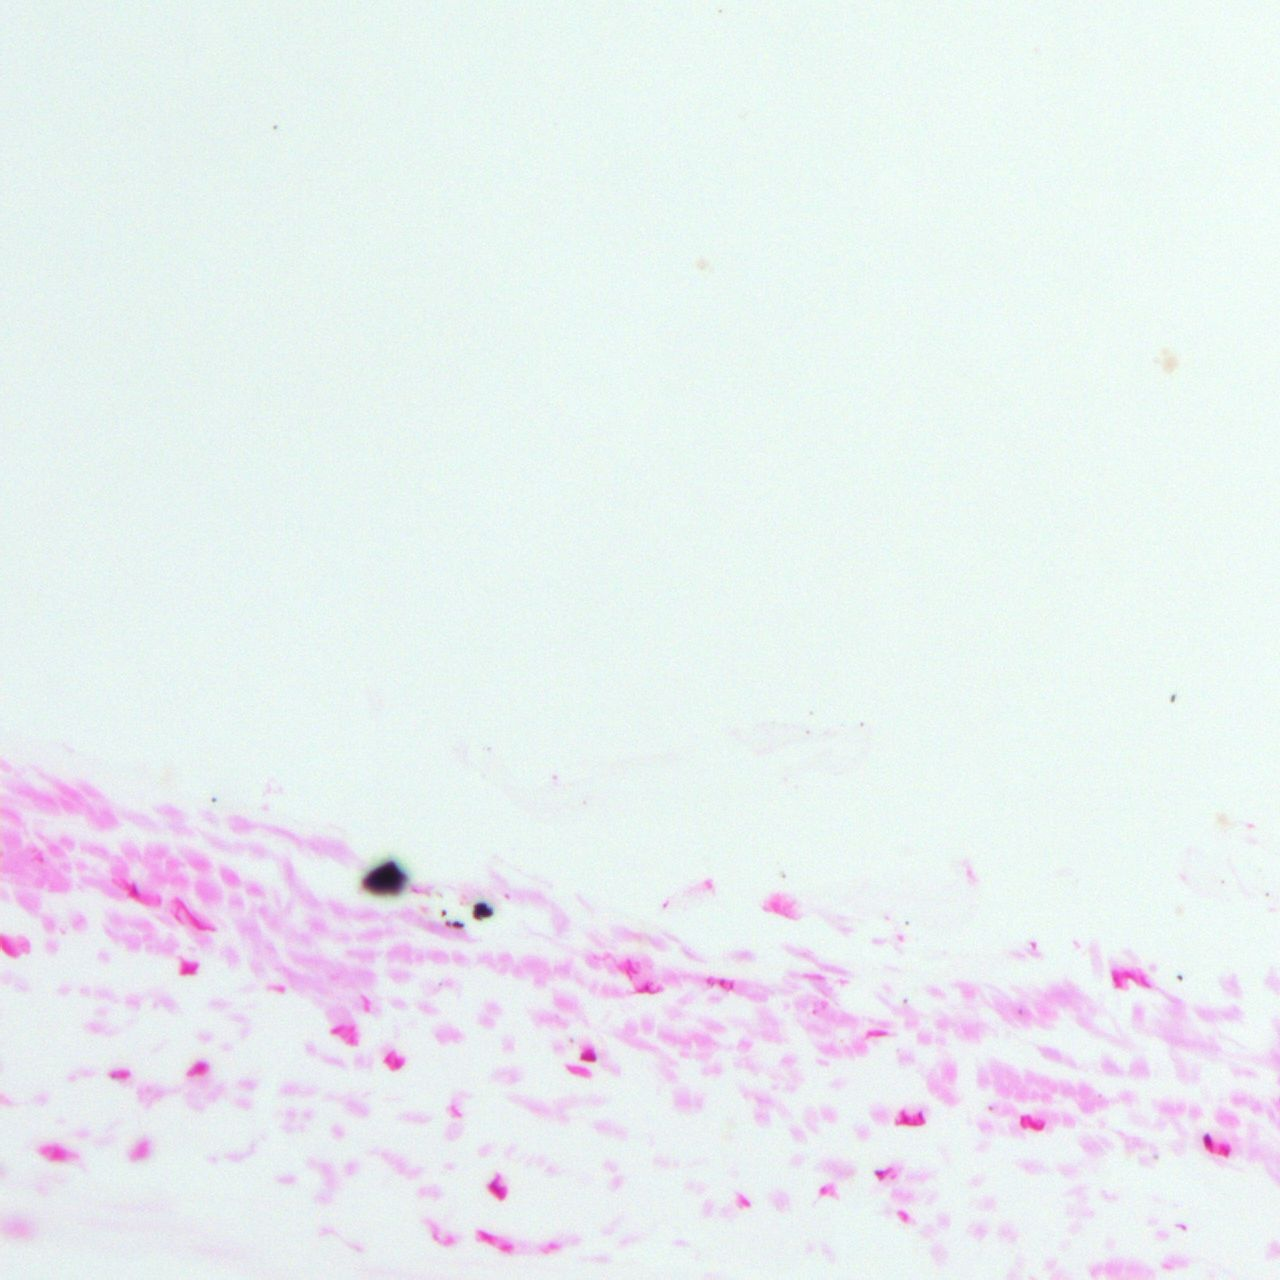dust: (354, 855, 409, 897), (474, 900, 493, 922), (452, 919, 465, 927), (1169, 692, 1176, 703), (1152, 1152, 1160, 1160), (779, 872, 787, 880), (858, 721, 866, 728), (804, 727, 811, 735), (272, 123, 278, 132), (441, 910, 448, 917), (444, 920, 451, 927), (904, 920, 910, 927), (903, 998, 908, 1005), (808, 708, 813, 715), (1176, 974, 1182, 980), (210, 796, 216, 801), (1017, 1008, 1023, 1013), (1264, 891, 1269, 896), (1097, 1092, 1102, 1097), (988, 1105, 992, 1110), (437, 981, 441, 985), (1220, 879, 1224, 883)
nucleus-FG: (171, 893, 216, 938), (1019, 1115, 1044, 1130), (181, 960, 202, 978), (632, 982, 662, 994), (488, 1182, 505, 1201), (188, 1060, 206, 1076), (127, 881, 141, 901), (339, 1024, 355, 1041), (896, 1109, 911, 1125), (738, 1194, 753, 1208), (625, 959, 636, 975), (1203, 1133, 1212, 1153), (392, 1055, 404, 1069), (478, 1230, 493, 1241), (360, 995, 370, 1012), (382, 1050, 394, 1064), (872, 1169, 886, 1180), (331, 1024, 346, 1035), (915, 1109, 926, 1124), (110, 1070, 130, 1077), (52, 1148, 64, 1158), (1114, 971, 1121, 988), (501, 1244, 512, 1254), (580, 1054, 597, 1061), (898, 1211, 908, 1221), (1224, 1144, 1231, 1158), (727, 981, 735, 993), (866, 1032, 886, 1036), (624, 968, 632, 979), (0, 933, 5, 948), (1123, 972, 1135, 978), (819, 1185, 826, 1194), (720, 978, 726, 988), (273, 985, 282, 990)
